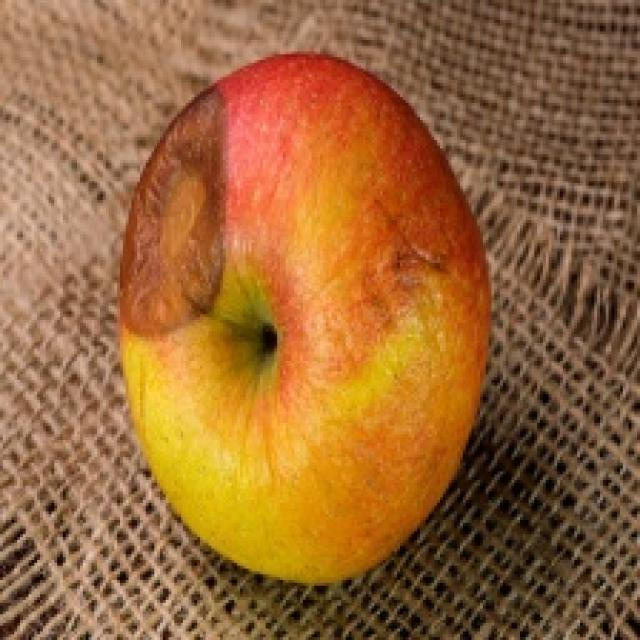rotten_apple: (122, 60, 474, 583)
